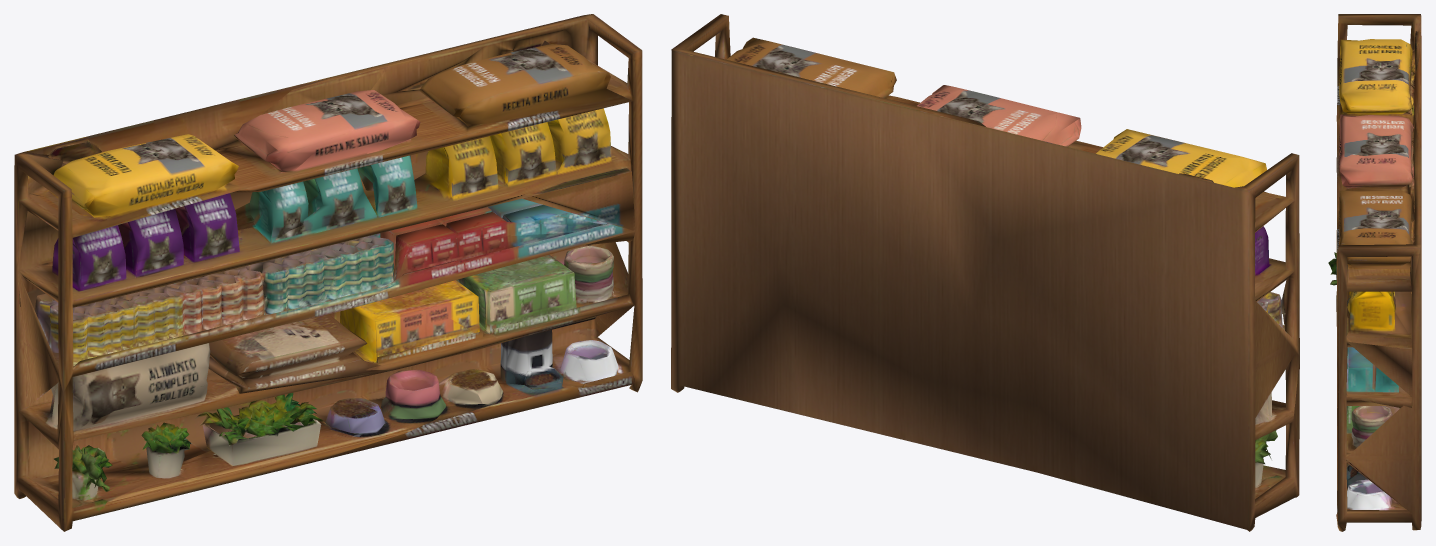
Rendered from Meshy_AI_Cat_Food_and_Supplies_0610183553_texture.fbx.
3 renders of one model, left to right at view 1: azimuth 30°, elevation 25°; view 2: azimuth 150°, elevation 25°; view 3: azimuth 270°, elevation 25°, orthographic. The views are drawn at different scales.
Parts seen in each view (by area): view 1: Mesh_0; view 2: Mesh_0; view 3: Mesh_0.
Boxes of the visible parts, x1=… form: Mesh_0: x1=14, y1=14, x2=642, y2=531; Mesh_0: x1=671, y1=14, x2=1299, y2=531; Mesh_0: x1=1328, y1=14, x2=1421, y2=531.
Bounding box in the file's own units: 191 × 108 × 32.14.
1 material, 1 textured.
